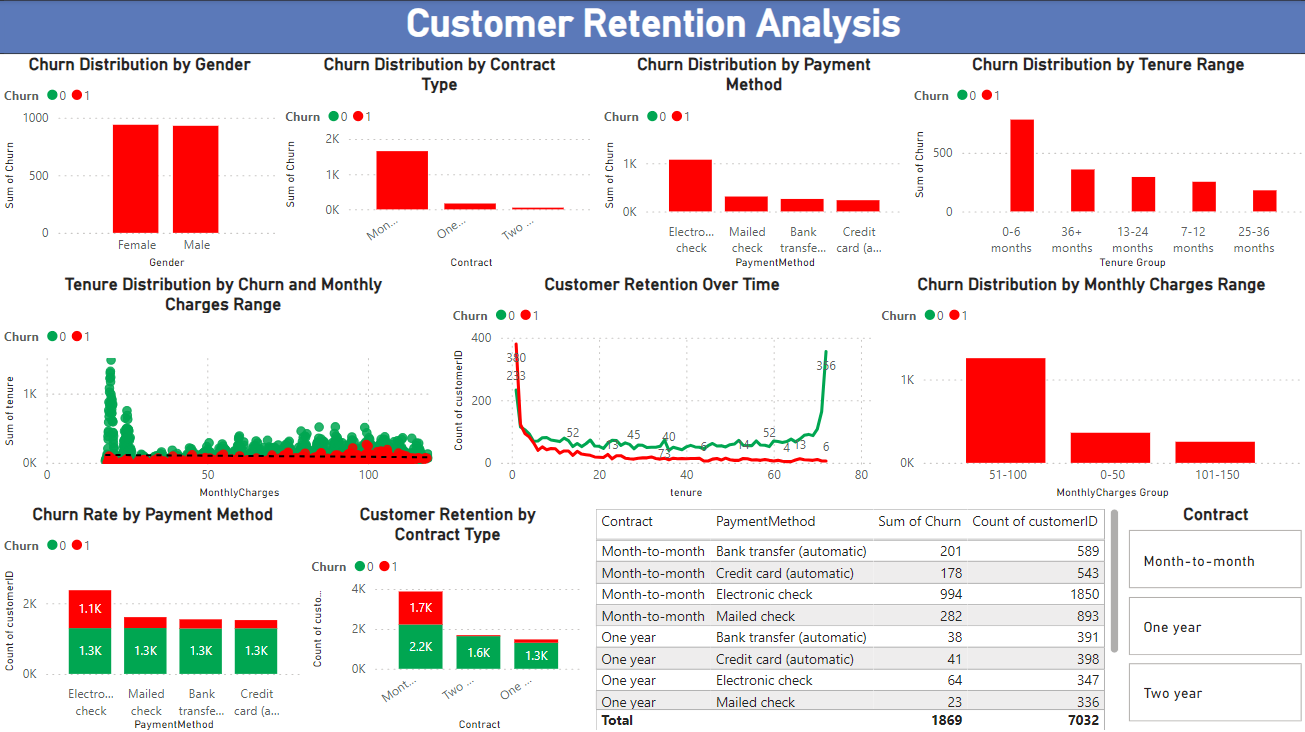

This screenshot's page, from the dashboard's own definition file:
{"tool":"powerbi","page":{"name":"Dashboard","canvas":[1280,720],"ordinal":0},"visuals":[{"type":"columnChart","title":"Churn Distribution by Gender","fields":{"Y":["CountNonNull(Telco-Customer-Churn.Churn)"],"Series":["Telco-Customer-Churn.Churn"],"Category":["Telco-Customer-Churn.gender"]},"box":[0,52.6,275.1,215.2],"z":0},{"type":"columnChart","title":"Churn Distribution by Payment Method","fields":{"Series":["Telco-Customer-Churn.Churn"],"Category":["Telco-Customer-Churn.PaymentMethod"],"Y":["Sum(Telco-Customer-Churn.Churn)"]},"box":[587,52.6,303.3,215.2],"z":1000},{"type":"columnChart","title":"Churn Distribution by Contract Type","fields":{"Y":["Sum(Telco-Customer-Churn.Churn)"],"Series":["Telco-Customer-Churn.Churn"],"Category":["Telco-Customer-Churn.Contract"]},"box":[275.1,52.6,311.8,215.2],"z":2000},{"type":"clusteredColumnChart","title":"Churn Distribution by Tenure Range","fields":{"Category":["Telco-Customer-Churn.Tenure Group"],"Series":["Telco-Customer-Churn.Churn"],"Y":["CountNonNull(Telco-Customer-Churn.Churn)"]},"box":[890.2,52.6,390.1,215.2],"z":3000},{"type":"columnChart","title":"Churn Distribution by Monthly Charges Range","fields":{"Category":["Telco-Customer-Churn.MonthlyCharges Group"],"Y":["CountNonNull(Telco-Customer-Churn.Churn)"],"Series":["Telco-Customer-Churn.Churn"]},"box":[858.4,267.8,420.7,225],"z":4000},{"type":"scatterChart","title":"Tenure Distribution by Churn and Monthly Charges Range","fields":{"Y":["Sum(Telco-Customer-Churn.tenure)"],"X":["Telco-Customer-Churn.MonthlyCharges"],"Series":["Telco-Customer-Churn.Churn"]},"box":[0,267.8,439,225],"z":5000},{"type":"columnChart","title":"Customer Retention by Contract Type","fields":{"Category":["Telco-Customer-Churn.Contract"],"Series":["Telco-Customer-Churn.Churn"],"Y":["CountNonNull(Telco-Customer-Churn.customerID)"]},"box":[300.8,492.8,276.4,227.4],"z":6000},{"type":"columnChart","title":"Churn Rate by Payment Method","fields":{"Category":["Telco-Customer-Churn.PaymentMethod"],"Series":["Telco-Customer-Churn.Churn"],"Y":["CountNonNull(Telco-Customer-Churn.customerID)"]},"box":[0,492.8,300.8,227.4],"z":7000},{"type":"lineChart","title":"Customer Retention Over Time","fields":{"Category":["Telco-Customer-Churn.tenure"],"Y":["CountNonNull(Telco-Customer-Churn.customerID)"],"Series":["Telco-Customer-Churn.Churn"]},"box":[439,267.8,419.4,225],"z":8000},{"type":"tableEx","fields":{"Values":["Telco-Customer-Churn.Contract","Telco-Customer-Churn.PaymentMethod","Sum(Telco-Customer-Churn.Churn)","Telco-Customer-Churn.customerID"]},"box":[577.2,492.8,523.4,227.4],"z":9000},{"type":"advancedSlicerVisual","fields":{"Values":["Telco-Customer-Churn.Contract"]},"box":[1100.5,492.8,179.8,220.1],"z":10000},{"type":"textbox","title":"Customer Retention Analysis","box":[0,0,1279.1,52.6],"z":11000}]}

Visuals, with their boxes in screenshot pixels (x1, y1, x2, y2), scaled from the page's 1280x720 canvas onto the 1305x732 screenshot:
"Churn Distribution by Gender" columnChart: (left=0, top=53, right=280, bottom=272)
"Churn Distribution by Payment Method" columnChart: (left=598, top=53, right=908, bottom=272)
"Churn Distribution by Contract Type" columnChart: (left=280, top=53, right=598, bottom=272)
"Churn Distribution by Tenure Range" clusteredColumnChart: (left=908, top=53, right=1304, bottom=272)
"Churn Distribution by Monthly Charges Range" columnChart: (left=875, top=272, right=1304, bottom=501)
"Tenure Distribution by Churn and Monthly Charges Range" scatterChart: (left=0, top=272, right=448, bottom=501)
"Customer Retention by Contract Type" columnChart: (left=307, top=501, right=588, bottom=731)
"Churn Rate by Payment Method" columnChart: (left=0, top=501, right=307, bottom=731)
"Customer Retention Over Time" lineChart: (left=448, top=272, right=875, bottom=501)
tableEx - Telco-Customer-Churn.Contract x Telco-Customer-Churn.PaymentMethod: (left=588, top=501, right=1122, bottom=731)
advancedSlicerVisual - Telco-Customer-Churn.Contract: (left=1122, top=501, right=1304, bottom=725)
"Customer Retention Analysis" textbox: (left=0, top=0, right=1304, bottom=53)
